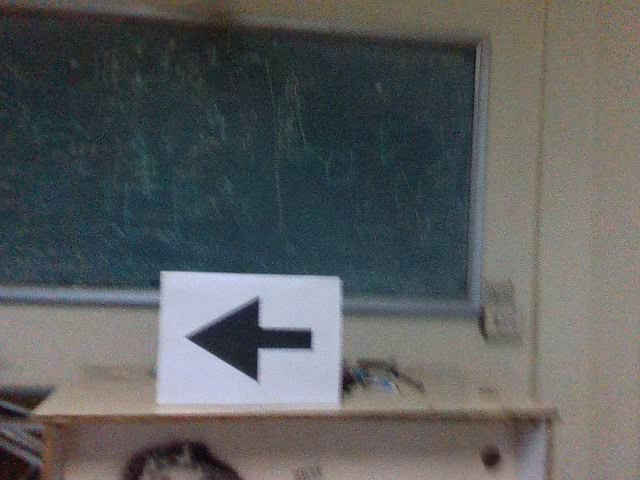Left: (176, 286, 320, 387)
